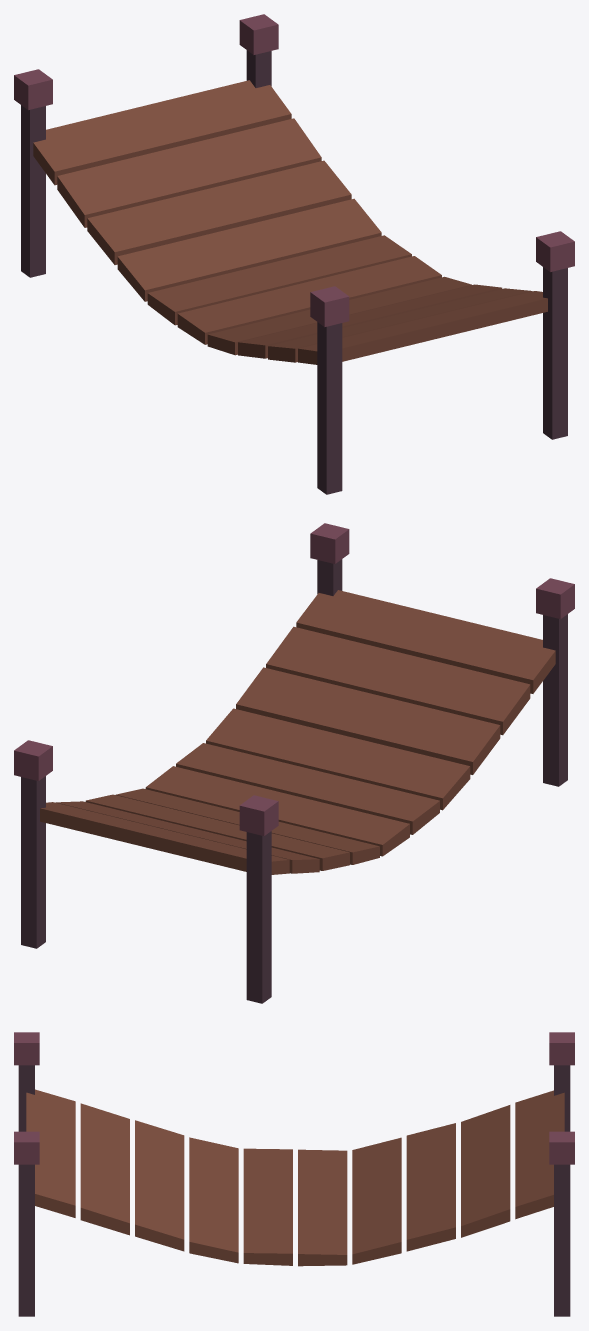
File: bridge.glb
3 views of the same model, one above another, from view 1: azimuth 30°, elevation 25°; view 2: azimuth 150°, elevation 25°; view 3: azimuth 270°, elevation 25° (orthographic). The views are drawn at different scales.
Visible parts, largest first — view 1: Cube, Cube.003, Cube.002, Cube.004, Cube.001; view 2: Cube, Cube.004, Cube.001, Cube.003, Cube.002; view 3: Cube, Cube.001, Cube.002, Cube.003, Cube.004.
Part boxes in pixels (box(x1,y1,x2,y2)): Cube: box(33, 80, 547, 364); Cube.003: box(310, 286, 349, 494); Cube.002: box(536, 231, 574, 439); Cube.004: box(14, 69, 52, 277); Cube.001: box(239, 14, 278, 87); Cube: box(40, 590, 555, 874); Cube.004: box(239, 795, 278, 1003); Cube.001: box(14, 740, 52, 948); Cube.003: box(536, 578, 574, 786); Cube.002: box(310, 523, 349, 595); Cube: box(26, 1089, 564, 1266); Cube.001: box(549, 1131, 574, 1316); Cube.002: box(14, 1131, 39, 1316); Cube.003: box(14, 1032, 39, 1131); Cube.004: box(549, 1032, 574, 1131).
Bounding box in the file's own units: 3.17 × 2.36 × 6.82.
